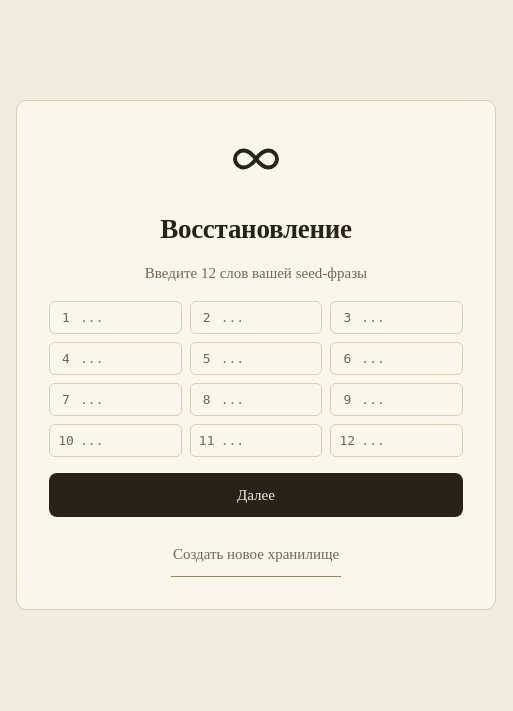
Test: Restore — failures come back to the phrase › a foreign vault shows its message and offers the reset
The image size is (513, 711).
Type "alpha bravo charlie delta echo foxtrot golf hotel india juliet kilo lima" into the field named "Слово 1 из 12" at x=126, y=318, box [80,306,173,329]
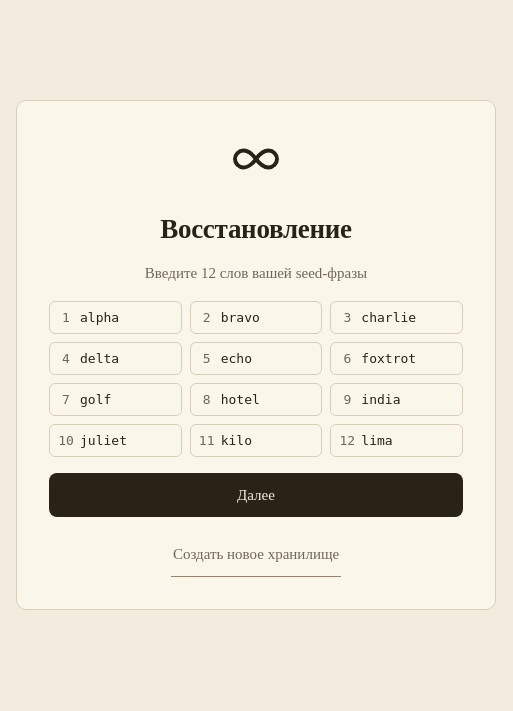
Click the button "Далее" at x=256, y=495, box [49,473,463,517]
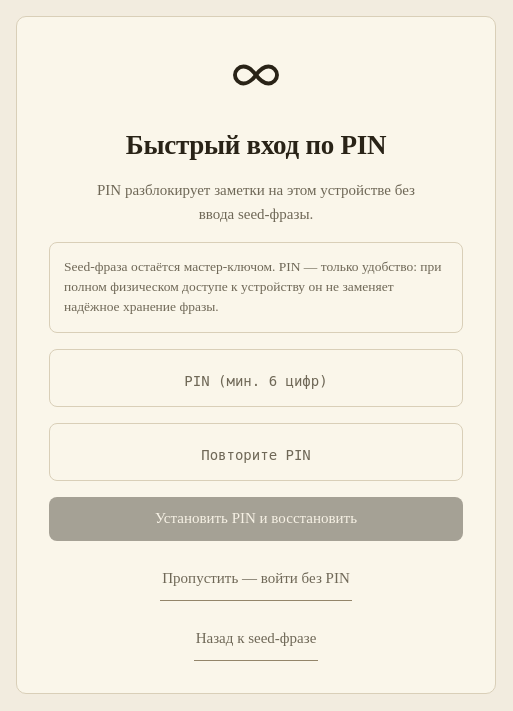
Expected: the heading "Быстрый вход по PIN" is shown, [126,129,386,162]
Type "123456" into the password field with placeholder "PIN (мин. 6 цифр)" at x=256, y=378, box [49,349,463,407]
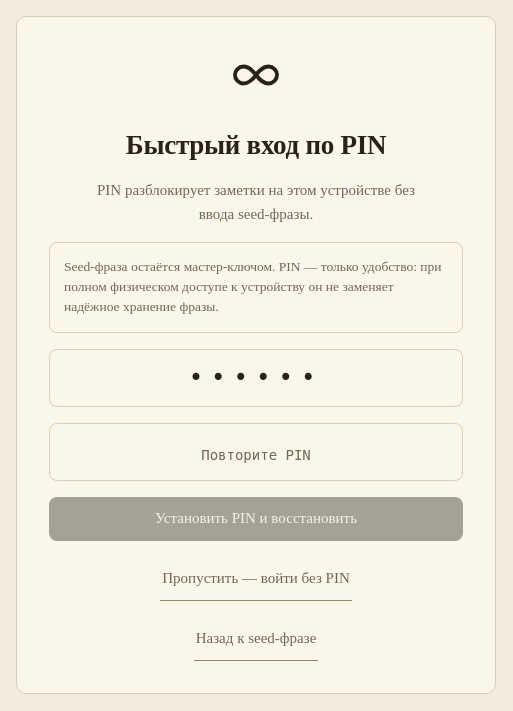
Type "123456" into the password field with placeholder "Повторите PIN" at x=256, y=452, box [49,423,463,481]
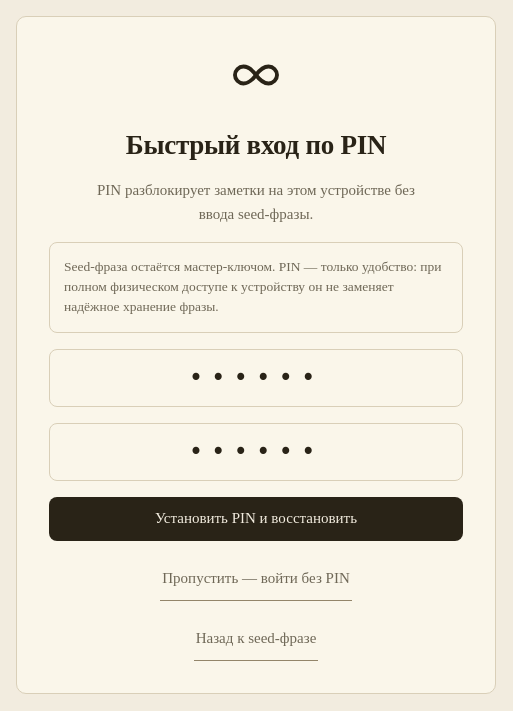
Click the button "Установить PIN и восстановить" at x=256, y=519, box [49,497,463,541]
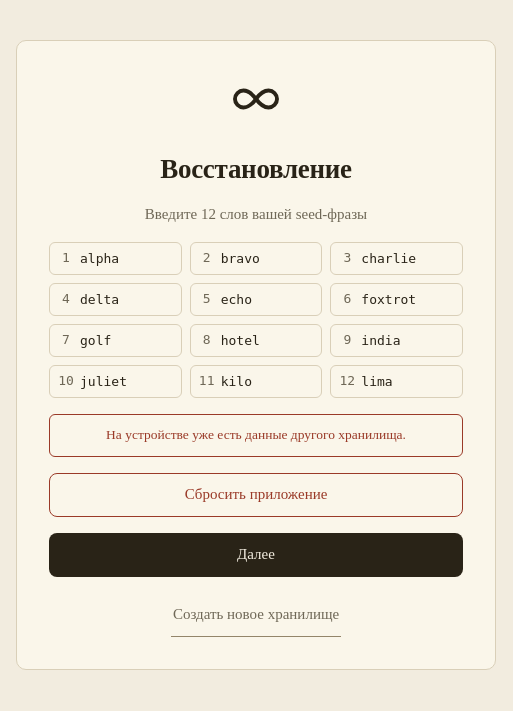
Expected: the text "На устройстве уже есть данные другого хранилища." is shown, [49,414,463,457]
Expected: the button "Сбросить приложение" is shown, [49,473,463,517]
Expected: the button "Далее" is shown, [49,533,463,577]
